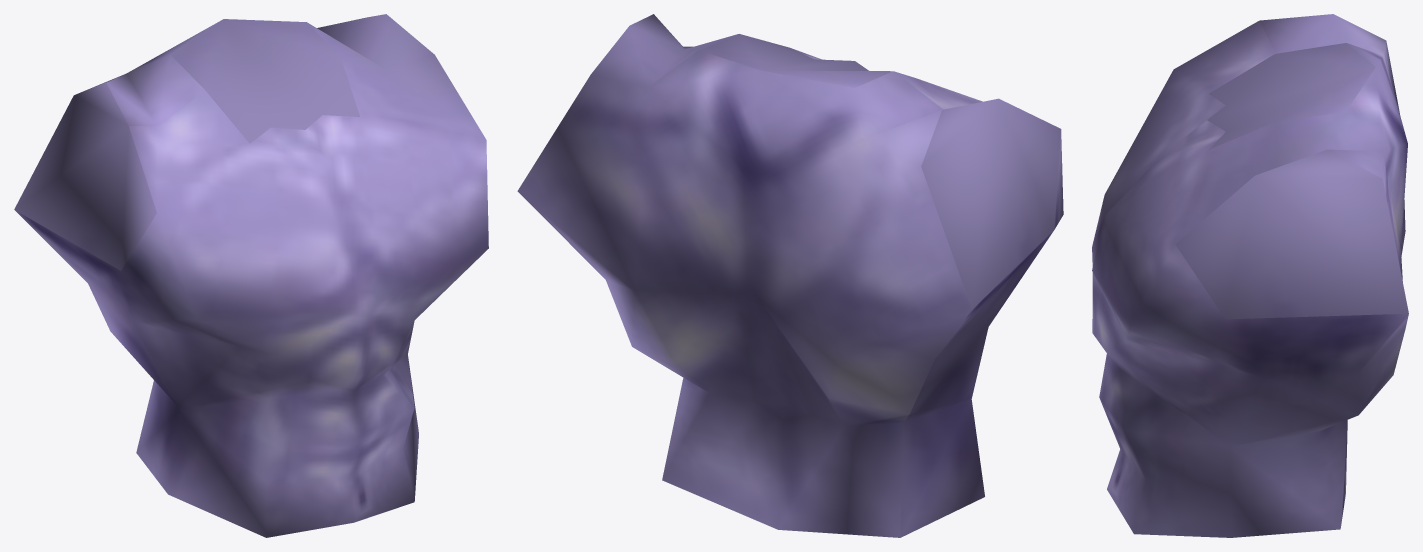
Rendered from torso.gltf.
The picture shows the model from 3 angles, left to right: view 1: azimuth 30°, elevation 25°; view 2: azimuth 150°, elevation 25°; view 3: azimuth 270°, elevation 25°; orthographic projection. The views are drawn at different scales.
Parts seen in each view (by area): view 1: Mesh_0; view 2: Mesh_0; view 3: Mesh_0.
Boxes of the visible parts, x1,y1,x2,y2 form: Mesh_0: [14, 14, 488, 537]; Mesh_0: [517, 14, 1063, 537]; Mesh_0: [1092, 14, 1408, 537].
Size of the model in its own units: 0.4627 by 0.4658 by 0.3114.
Materials: 1 (1 with a texture image).
